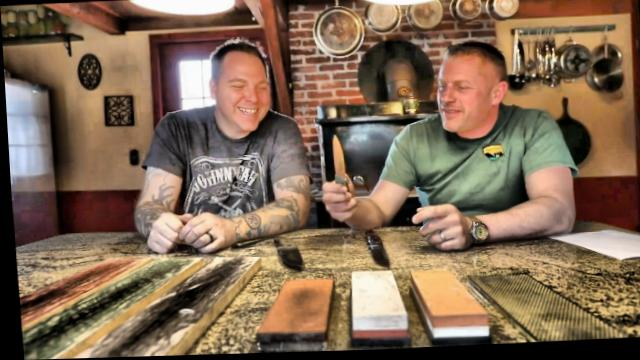knife: (314, 128, 359, 218)
